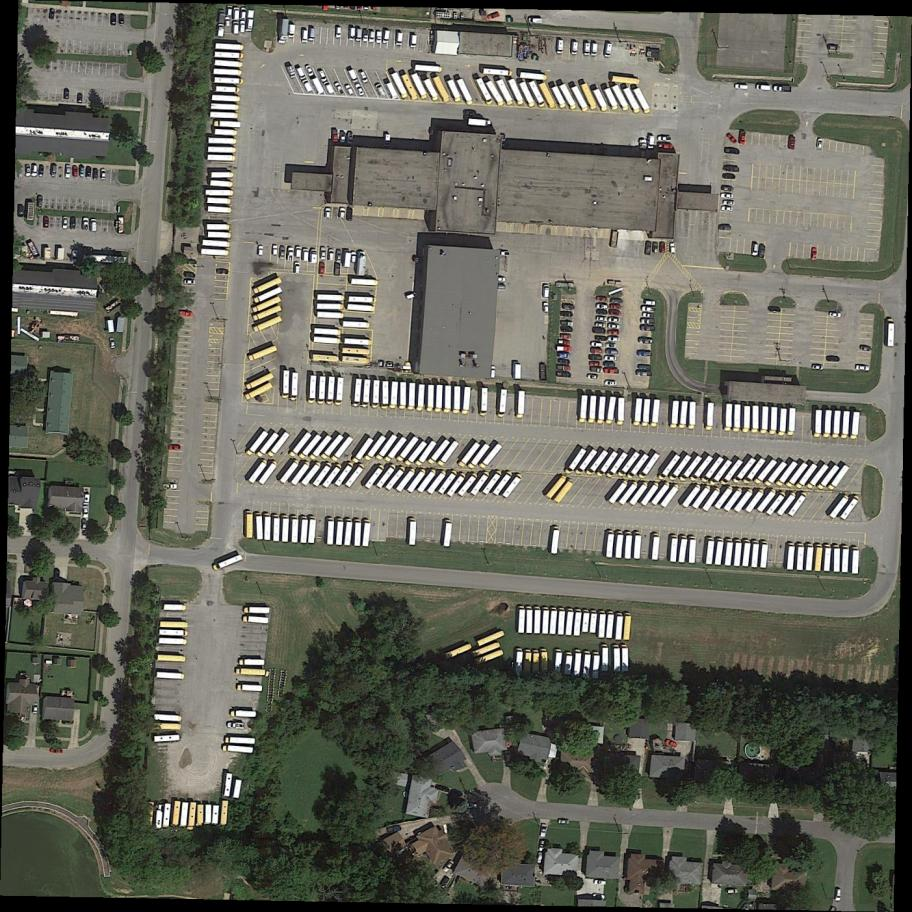large-vehicle: (678, 454, 703, 483), (690, 454, 714, 483), (733, 456, 757, 485), (375, 434, 399, 462), (479, 443, 503, 471), (595, 450, 619, 478), (627, 453, 651, 481), (658, 454, 682, 482), (701, 456, 725, 484), (720, 458, 744, 486), (817, 463, 841, 491), (565, 447, 588, 476), (606, 451, 629, 480), (638, 452, 661, 481), (710, 459, 733, 488), (743, 457, 766, 486), (795, 462, 818, 491), (384, 437, 408, 464), (404, 440, 428, 467), (458, 441, 482, 468), (764, 461, 788, 488), (437, 440, 460, 468), (290, 431, 313, 459), (575, 448, 598, 476), (669, 454, 692, 482), (754, 458, 777, 486), (807, 463, 830, 491), (256, 432, 280, 458), (267, 431, 290, 458), (321, 434, 344, 461), (397, 436, 420, 463), (428, 439, 451, 466), (618, 451, 641, 478), (775, 460, 798, 487), (528, 79, 548, 110), (213, 553, 244, 573), (415, 440, 437, 468), (353, 436, 375, 464), (787, 462, 809, 490), (632, 86, 653, 115), (246, 371, 275, 392), (252, 295, 282, 315), (299, 434, 322, 460), (457, 472, 480, 498), (586, 450, 609, 476), (247, 430, 269, 457), (332, 436, 354, 463), (365, 435, 387, 462), (468, 443, 490, 470), (828, 464, 850, 491), (618, 481, 640, 507), (829, 494, 851, 520), (554, 478, 576, 504), (486, 79, 506, 107), (495, 78, 515, 106), (445, 641, 473, 661), (254, 315, 283, 334), (245, 382, 274, 401), (660, 484, 682, 509), (608, 480, 630, 505), (546, 475, 568, 500), (311, 435, 332, 461), (840, 495, 861, 521), (788, 491, 809, 517), (776, 491, 797, 517), (766, 491, 787, 517), (723, 487, 744, 513), (312, 462, 333, 488), (345, 463, 366, 489), (376, 463, 397, 489), (385, 465, 406, 491), (406, 468, 427, 494), (417, 468, 438, 494), (502, 473, 523, 499), (629, 481, 650, 507), (253, 305, 283, 323), (253, 277, 283, 295), (580, 83, 599, 111), (476, 78, 495, 106), (734, 488, 755, 513), (714, 485, 735, 510), (702, 487, 723, 512), (396, 468, 417, 493), (482, 470, 503, 495), (254, 286, 283, 304), (476, 648, 505, 666), (322, 463, 342, 489), (334, 462, 354, 488), (624, 87, 643, 114), (571, 85, 590, 112), (433, 76, 452, 103), (248, 345, 278, 362), (651, 482, 672, 506), (457, 79, 475, 107), (539, 82, 557, 110), (478, 628, 506, 646), (280, 460, 300, 485), (291, 461, 311, 486), (757, 488, 777, 513), (692, 485, 712, 510), (682, 483, 702, 508), (365, 465, 385, 490), (438, 470, 458, 495), (493, 471, 513, 496), (259, 460, 278, 486), (612, 85, 631, 111), (472, 641, 501, 658), (508, 78, 526, 105), (746, 489, 766, 513), (302, 462, 322, 486), (427, 471, 447, 495), (641, 482, 660, 507), (471, 471, 490, 496), (559, 83, 577, 109), (402, 74, 419, 101), (411, 73, 428, 100), (249, 460, 268, 484), (447, 473, 466, 497), (520, 82, 537, 108), (392, 72, 409, 98), (604, 87, 621, 111), (593, 89, 610, 113), (424, 79, 440, 101), (447, 80, 462, 103), (224, 743, 255, 754), (442, 520, 454, 548), (605, 397, 617, 425), (553, 87, 568, 109), (886, 317, 896, 349), (612, 75, 641, 86), (650, 399, 661, 428), (361, 519, 372, 547), (352, 379, 363, 407), (705, 538, 716, 565), (677, 536, 688, 563), (498, 389, 508, 418), (516, 390, 526, 419), (361, 379, 371, 408), (244, 510, 254, 539), (308, 375, 318, 404), (633, 398, 643, 427), (597, 396, 607, 425), (356, 252, 368, 276), (760, 541, 770, 569), (281, 515, 291, 543), (153, 713, 181, 723), (612, 645, 622, 673), (724, 404, 734, 432), (180, 801, 191, 826), (714, 539, 724, 566), (605, 531, 615, 558), (724, 539, 734, 566), (579, 396, 589, 423), (160, 627, 187, 637), (462, 386, 471, 415), (255, 512, 264, 541), (484, 68, 513, 77), (670, 400, 679, 429), (842, 411, 851, 440), (344, 520, 354, 546), (155, 721, 181, 731), (347, 303, 375, 312), (805, 543, 814, 571), (326, 517, 335, 545), (291, 516, 300, 544), (354, 518, 363, 546), (518, 606, 527, 634), (319, 376, 328, 404), (336, 378, 345, 406), (642, 399, 651, 427), (679, 401, 688, 429), (770, 407, 779, 435), (824, 409, 833, 437), (416, 384, 425, 411), (742, 540, 751, 567), (551, 526, 560, 553), (651, 533, 660, 560), (541, 649, 550, 676), (243, 616, 270, 625), (851, 412, 860, 439), (172, 800, 182, 824), (189, 802, 199, 826), (154, 734, 180, 743), (372, 380, 380, 409), (342, 347, 371, 355), (342, 356, 371, 364), (215, 77, 244, 85), (202, 239, 231, 247), (480, 388, 488, 417), (216, 43, 245, 51), (515, 647, 523, 676), (226, 736, 255, 744), (688, 401, 696, 430), (833, 410, 841, 439), (224, 772, 233, 797), (163, 803, 172, 828), (408, 382, 416, 410), (390, 381, 398, 409), (201, 249, 229, 257), (317, 311, 345, 319), (314, 328, 342, 336), (344, 338, 372, 346), (815, 544, 823, 572), (211, 103, 239, 111), (212, 94, 240, 102), (301, 516, 309, 544), (309, 516, 317, 544), (335, 517, 343, 545), (214, 68, 242, 76), (327, 377, 335, 405), (382, 381, 390, 409), (415, 65, 443, 73), (520, 72, 548, 80), (215, 60, 243, 68), (159, 637, 187, 645), (157, 671, 185, 679), (788, 408, 796, 436), (733, 404, 741, 432), (751, 406, 759, 434), (779, 408, 787, 436), (617, 398, 625, 426), (589, 396, 597, 424), (426, 385, 434, 412), (312, 354, 339, 362), (351, 278, 378, 286), (314, 336, 341, 344), (734, 540, 742, 567), (751, 541, 759, 568), (273, 515, 281, 542), (409, 518, 417, 545), (543, 607, 551, 634), (158, 654, 185, 662), (532, 650, 540, 677), (215, 52, 245, 59), (707, 402, 714, 432), (558, 608, 566, 634), (161, 621, 187, 629), (291, 372, 298, 401), (834, 544, 841, 573), (525, 649, 532, 678), (237, 669, 266, 676), (762, 406, 769, 435), (233, 779, 243, 799), (240, 658, 265, 666), (232, 710, 257, 718), (399, 382, 406, 410), (208, 146, 236, 153), (349, 296, 377, 303), (787, 543, 794, 571), (842, 545, 849, 573), (689, 536, 696, 564), (616, 531, 623, 559), (265, 513, 272, 541), (527, 606, 534, 634), (575, 608, 582, 636), (283, 371, 290, 399), (445, 385, 452, 413), (616, 612, 623, 640), (624, 613, 631, 641), (623, 645, 630, 673), (815, 410, 822, 438), (207, 197, 231, 205), (155, 804, 163, 828), (565, 652, 573, 676), (436, 385, 443, 412), (454, 386, 461, 413), (206, 189, 233, 196), (824, 545, 831, 572), (852, 547, 859, 574), (670, 535, 677, 562), (625, 532, 632, 559), (634, 532, 641, 559), (318, 294, 345, 301), (602, 645, 609, 672), (245, 607, 272, 614), (344, 321, 370, 328), (146, 800, 153, 826), (237, 685, 263, 692), (744, 407, 751, 433), (210, 181, 235, 188), (221, 800, 228, 825), (210, 112, 239, 118), (209, 138, 237, 144), (208, 155, 236, 161), (208, 206, 232, 213), (215, 86, 239, 93), (317, 304, 344, 310), (797, 544, 803, 571), (535, 607, 541, 634), (599, 610, 605, 637), (214, 121, 241, 127), (575, 649, 581, 676), (513, 362, 522, 380), (215, 129, 238, 136), (208, 231, 231, 238), (164, 604, 187, 611), (552, 608, 558, 634), (608, 612, 614, 638), (212, 171, 234, 178), (583, 610, 590, 632), (207, 224, 230, 230), (556, 649, 562, 672), (206, 805, 213, 824), (198, 805, 204, 824), (213, 805, 219, 824)
small-vehicle: (276, 17, 290, 45), (311, 77, 325, 96), (346, 66, 359, 84), (438, 874, 452, 890), (374, 82, 388, 98), (638, 139, 649, 159), (442, 859, 456, 874), (385, 823, 402, 835), (664, 737, 679, 750), (295, 65, 307, 81), (334, 81, 346, 97), (750, 241, 761, 258), (774, 85, 794, 94), (723, 147, 741, 157), (302, 79, 314, 94), (358, 70, 370, 85), (604, 42, 615, 58), (317, 67, 328, 83), (725, 132, 738, 145), (304, 63, 315, 78), (324, 81, 335, 96), (343, 251, 352, 269), (756, 83, 772, 93), (787, 134, 797, 150), (434, 784, 450, 794), (647, 134, 657, 150), (488, 9, 501, 21), (344, 83, 355, 97), (638, 336, 655, 345), (217, 8, 226, 25), (571, 39, 580, 56), (178, 309, 195, 318), (449, 788, 464, 798), (539, 824, 549, 839), (287, 64, 297, 79), (636, 370, 654, 378), (738, 129, 747, 145), (606, 335, 622, 344), (757, 244, 766, 260), (644, 240, 653, 256), (310, 249, 319, 265), (355, 83, 365, 97), (724, 165, 741, 173), (721, 173, 738, 181), (18, 204, 27, 219), (641, 305, 656, 314), (768, 306, 783, 315), (216, 23, 225, 38), (232, 6, 241, 21), (361, 28, 370, 43), (301, 29, 310, 44), (287, 23, 296, 38), (81, 216, 90, 231), (556, 371, 572, 379), (527, 16, 543, 24), (855, 363, 871, 371), (302, 247, 310, 263), (383, 28, 391, 44), (410, 33, 418, 49), (331, 127, 339, 143), (556, 38, 564, 54), (163, 483, 179, 491), (595, 302, 609, 311), (227, 723, 245, 730), (538, 838, 547, 852), (810, 247, 819, 261), (23, 163, 32, 177), (278, 246, 287, 260), (543, 284, 551, 299), (608, 309, 623, 317), (721, 185, 736, 193), (592, 893, 607, 901), (320, 247, 328, 262), (584, 41, 592, 56), (309, 26, 317, 41), (396, 31, 404, 46), (816, 138, 825, 151), (637, 350, 653, 357), (604, 379, 618, 387), (735, 83, 749, 91), (595, 296, 609, 304), (610, 297, 624, 305), (348, 27, 356, 41), (368, 29, 376, 43), (384, 131, 391, 147), (335, 25, 343, 39), (31, 163, 39, 177), (42, 215, 50, 229), (541, 302, 550, 314), (406, 292, 418, 301), (76, 92, 85, 104), (605, 368, 620, 375), (556, 352, 571, 359), (557, 364, 572, 371), (589, 367, 604, 374), (720, 193, 735, 200), (336, 249, 343, 264), (65, 164, 72, 179), (590, 347, 603, 355), (638, 364, 651, 372), (590, 341, 603, 349), (642, 312, 655, 320), (719, 224, 732, 232), (859, 344, 872, 352), (232, 22, 240, 35), (240, 7, 248, 20), (239, 21, 247, 34), (589, 354, 603, 361), (557, 359, 571, 366), (826, 44, 840, 51), (562, 304, 576, 311), (643, 300, 657, 307), (642, 318, 656, 325), (608, 317, 622, 324), (559, 333, 573, 340), (465, 802, 479, 809), (659, 142, 673, 149), (835, 888, 842, 902), (826, 355, 840, 362), (184, 258, 198, 265), (356, 28, 363, 42), (376, 30, 383, 44), (339, 130, 346, 144), (347, 130, 354, 144), (51, 164, 58, 178), (61, 215, 68, 229), (556, 346, 572, 352), (640, 325, 656, 331), (83, 494, 91, 506), (592, 41, 598, 57), (246, 19, 254, 31), (63, 87, 71, 99), (605, 355, 618, 362), (603, 361, 616, 368), (595, 315, 608, 322), (608, 323, 621, 330), (560, 325, 573, 332), (723, 200, 736, 207), (81, 518, 88, 531), (721, 205, 734, 212), (537, 852, 544, 865), (109, 336, 116, 349), (83, 505, 90, 518), (811, 364, 824, 371), (183, 272, 196, 279), (325, 207, 332, 220), (339, 207, 346, 220), (38, 165, 45, 178), (37, 195, 44, 208), (90, 218, 97, 231), (556, 340, 571, 346), (287, 247, 293, 262), (257, 245, 265, 256), (605, 349, 619, 355), (594, 321, 606, 328), (592, 327, 606, 333), (490, 366, 497, 378), (594, 880, 608, 886), (726, 888, 738, 895), (346, 208, 352, 222), (652, 242, 659, 254), (328, 249, 335, 261), (351, 252, 358, 264), (110, 12, 116, 26), (92, 167, 98, 181), (100, 168, 107, 180), (669, 244, 677, 254), (560, 311, 573, 317), (658, 135, 671, 141), (296, 246, 302, 259), (86, 166, 92, 179), (216, 269, 229, 275), (588, 374, 599, 381), (590, 361, 601, 368), (118, 14, 125, 25), (70, 215, 75, 230), (610, 304, 622, 310), (608, 330, 620, 336), (33, 703, 39, 715), (495, 284, 507, 290), (829, 312, 841, 318), (660, 241, 666, 253), (72, 165, 78, 177), (79, 165, 85, 177), (561, 321, 575, 326), (48, 9, 55, 19), (596, 336, 607, 342), (272, 245, 278, 256), (170, 444, 181, 450), (494, 276, 506, 281), (227, 6, 233, 16), (605, 344, 616, 349), (597, 310, 608, 315), (558, 820, 569, 825), (183, 280, 196, 284), (226, 17, 231, 27)
